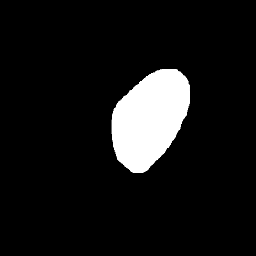mass: (116, 66, 178, 165)
